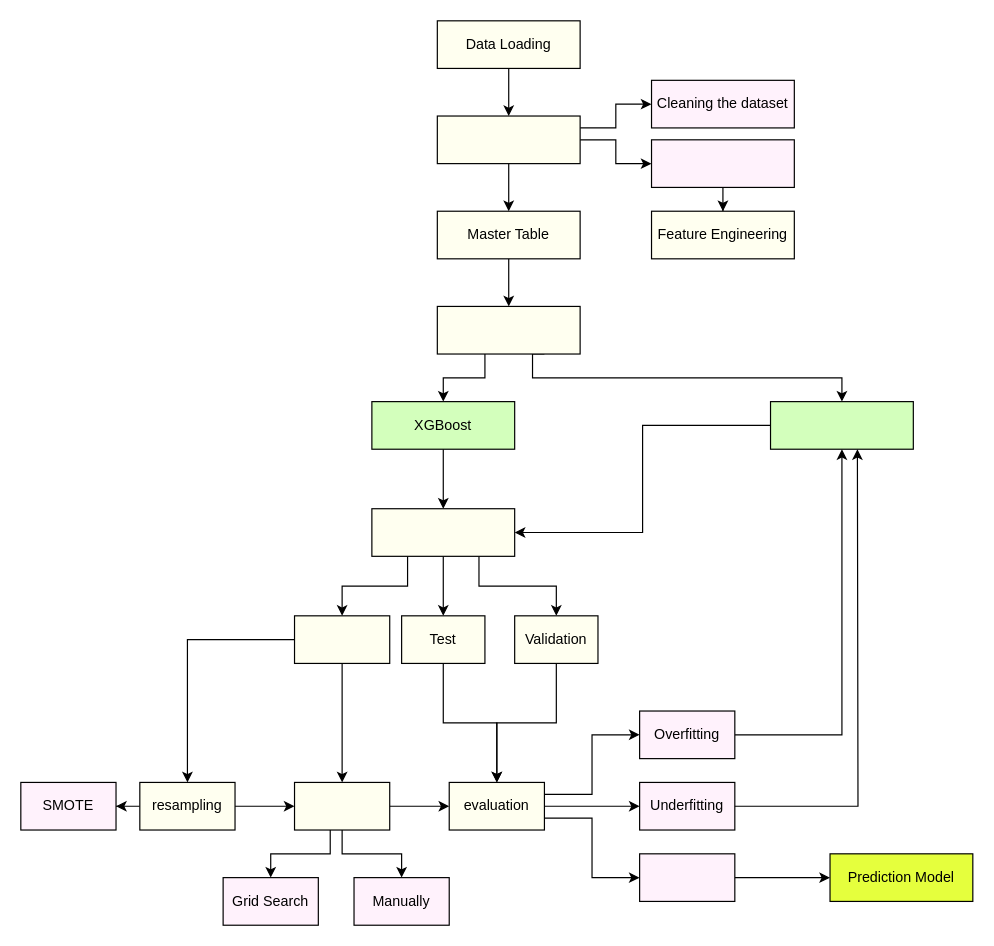
Some shapes in this 994 by 946 pixel diagram are drawn without their labels. The shapes that lost their labels are listed below. From the top down, each one's centre as x and y in pixels, then its label:
(x=508, y=139): Data Preprocessing
(x=722, y=163): Data Transformation
(x=508, y=329): Model training
(x=841, y=424): LightGBM
(x=443, y=532): Data Spllit
(x=341, y=639): Train
(x=341, y=805): HPT
(x=686, y=877): Goodfit
